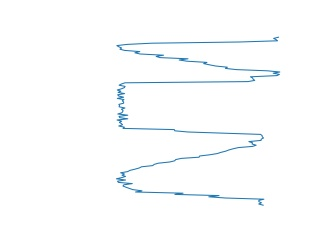distributaryChannelFill: (114, 72, 267, 143)
mouthBar: (114, 34, 284, 77)
underwaterDistributaryChannel: (113, 138, 267, 209)
